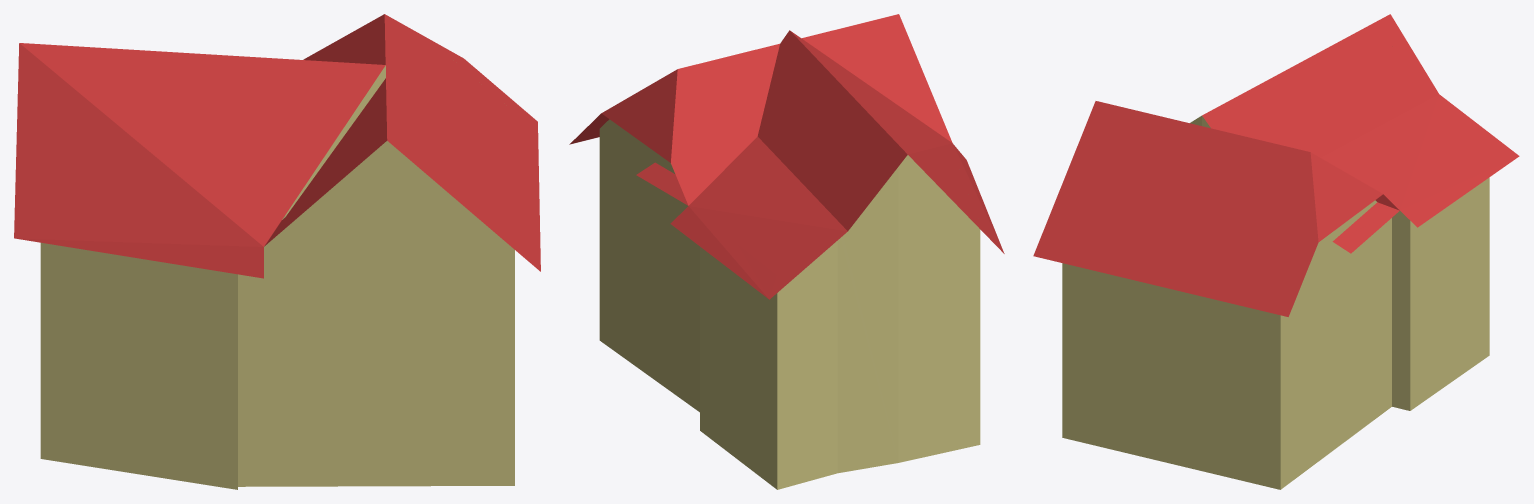
3 renders of one model, left to right at view 1: azimuth 30°, elevation 25°; view 2: azimuth 150°, elevation 25°; view 3: azimuth 270°, elevation 25°, orthographic. The views are drawn at different scales.
Size of the model in its own units: 23.07 by 22.85 by 15.78.
